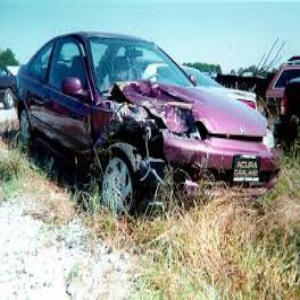bonnet: (128, 79, 266, 136)
